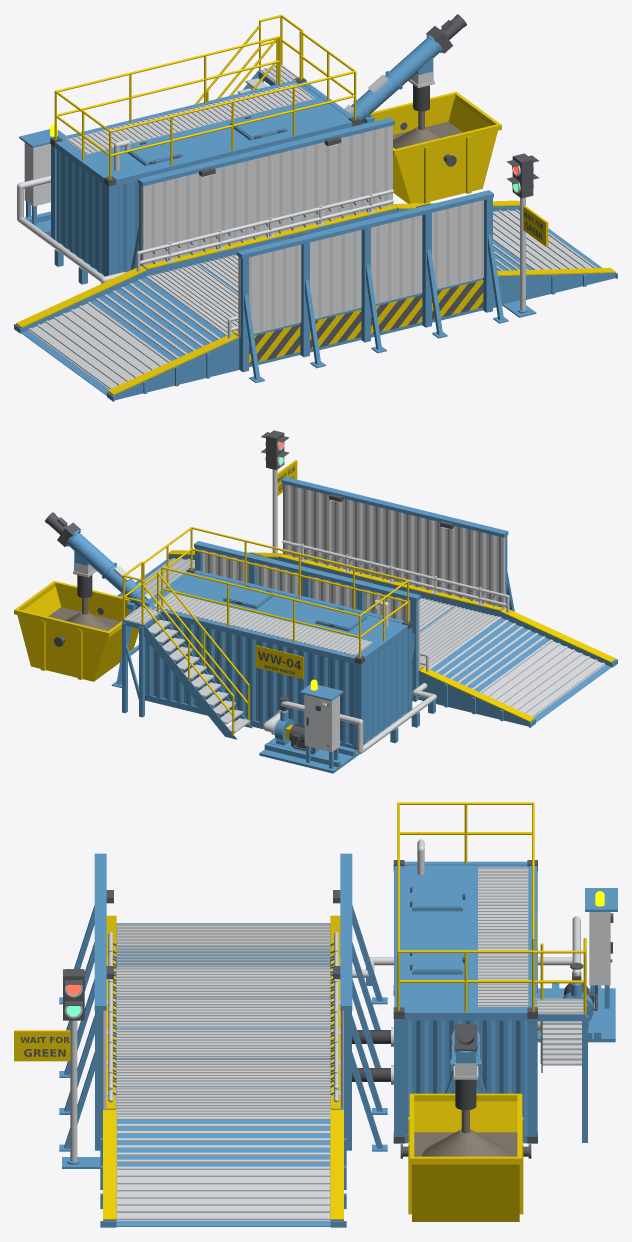
File: Drive_Through_Wheel_Wash.glb
3 views of the same model, one above another, from view 1: azimuth 30°, elevation 25°; view 2: azimuth 150°, elevation 25°; view 3: azimuth 270°, elevation 25° (orthographic). The views are drawn at different scales.
Visible parts, largest first — view 1: splash_screens, screen_posts, entry_ramp_tread, sludge_skip, entry_ramp, tank_walls, tank_frame, tank_roof, roof_handrails, roof_walkway, deck_grating, screen_struts (+21 smaller); view 2: splash_screens, tank_walls, sludge_skip, entry_ramp_tread, entry_ramp, screen_posts, tank_frame, roof_handrails, tank_roof, roof_walkway, stair_stringers, deck_grating (+18 smaller); view 3: deck_grating, exit_ramp_tread, sludge_skip, entry_ramp_tread, exit_ramp, tank_roof, tank_walls, roof_walkway, screen_posts, tank_frame, screen_struts, entry_ramp (+25 smaller).
Part boxes in pixels (x1,y1,x2,y2): splash_screens: [141, 125, 483, 336]; screen_posts: [138, 117, 493, 372]; entry_ramp_tread: [28, 275, 227, 389]; sludge_skip: [363, 91, 501, 203]; entry_ramp: [16, 269, 239, 400]; tank_walls: [56, 150, 138, 276]; tank_frame: [51, 80, 353, 276]; tank_roof: [61, 82, 348, 177]; roof_handrails: [54, 31, 356, 179]; roof_walkway: [66, 83, 315, 154]; deck_grating: [149, 254, 238, 333]; screen_struts: [131, 226, 508, 382]; splash_screens: [203, 484, 505, 670]; tank_walls: [146, 617, 408, 745]; sludge_skip: [14, 580, 138, 681]; entry_ramp_tread: [429, 616, 605, 716]; entry_ramp: [419, 611, 615, 726]; screen_posts: [194, 477, 508, 701]; tank_frame: [144, 570, 412, 748]; roof_handrails: [142, 527, 408, 657]; tank_roof: [149, 572, 402, 656]; roof_walkway: [152, 592, 372, 655]; stair_stringers: [122, 612, 252, 739]; deck_grating: [420, 597, 497, 667]; deck_grating: [116, 967, 330, 1117]; exit_ramp_tread: [117, 1116, 329, 1220]; sludge_skip: [408, 1093, 523, 1221]; entry_ramp_tread: [117, 923, 329, 967]; exit_ramp: [103, 1118, 343, 1226]; tank_roof: [402, 865, 529, 1009]; tank_walls: [404, 1020, 527, 1134]; roof_walkway: [478, 867, 528, 1007]; screen_posts: [94, 853, 352, 1150]; tank_frame: [394, 861, 537, 1143]; screen_struts: [59, 905, 387, 1151]; entry_ramp: [116, 923, 330, 967].
Size of the model in its own units: 12.26 by 3.62 by 10.09.
